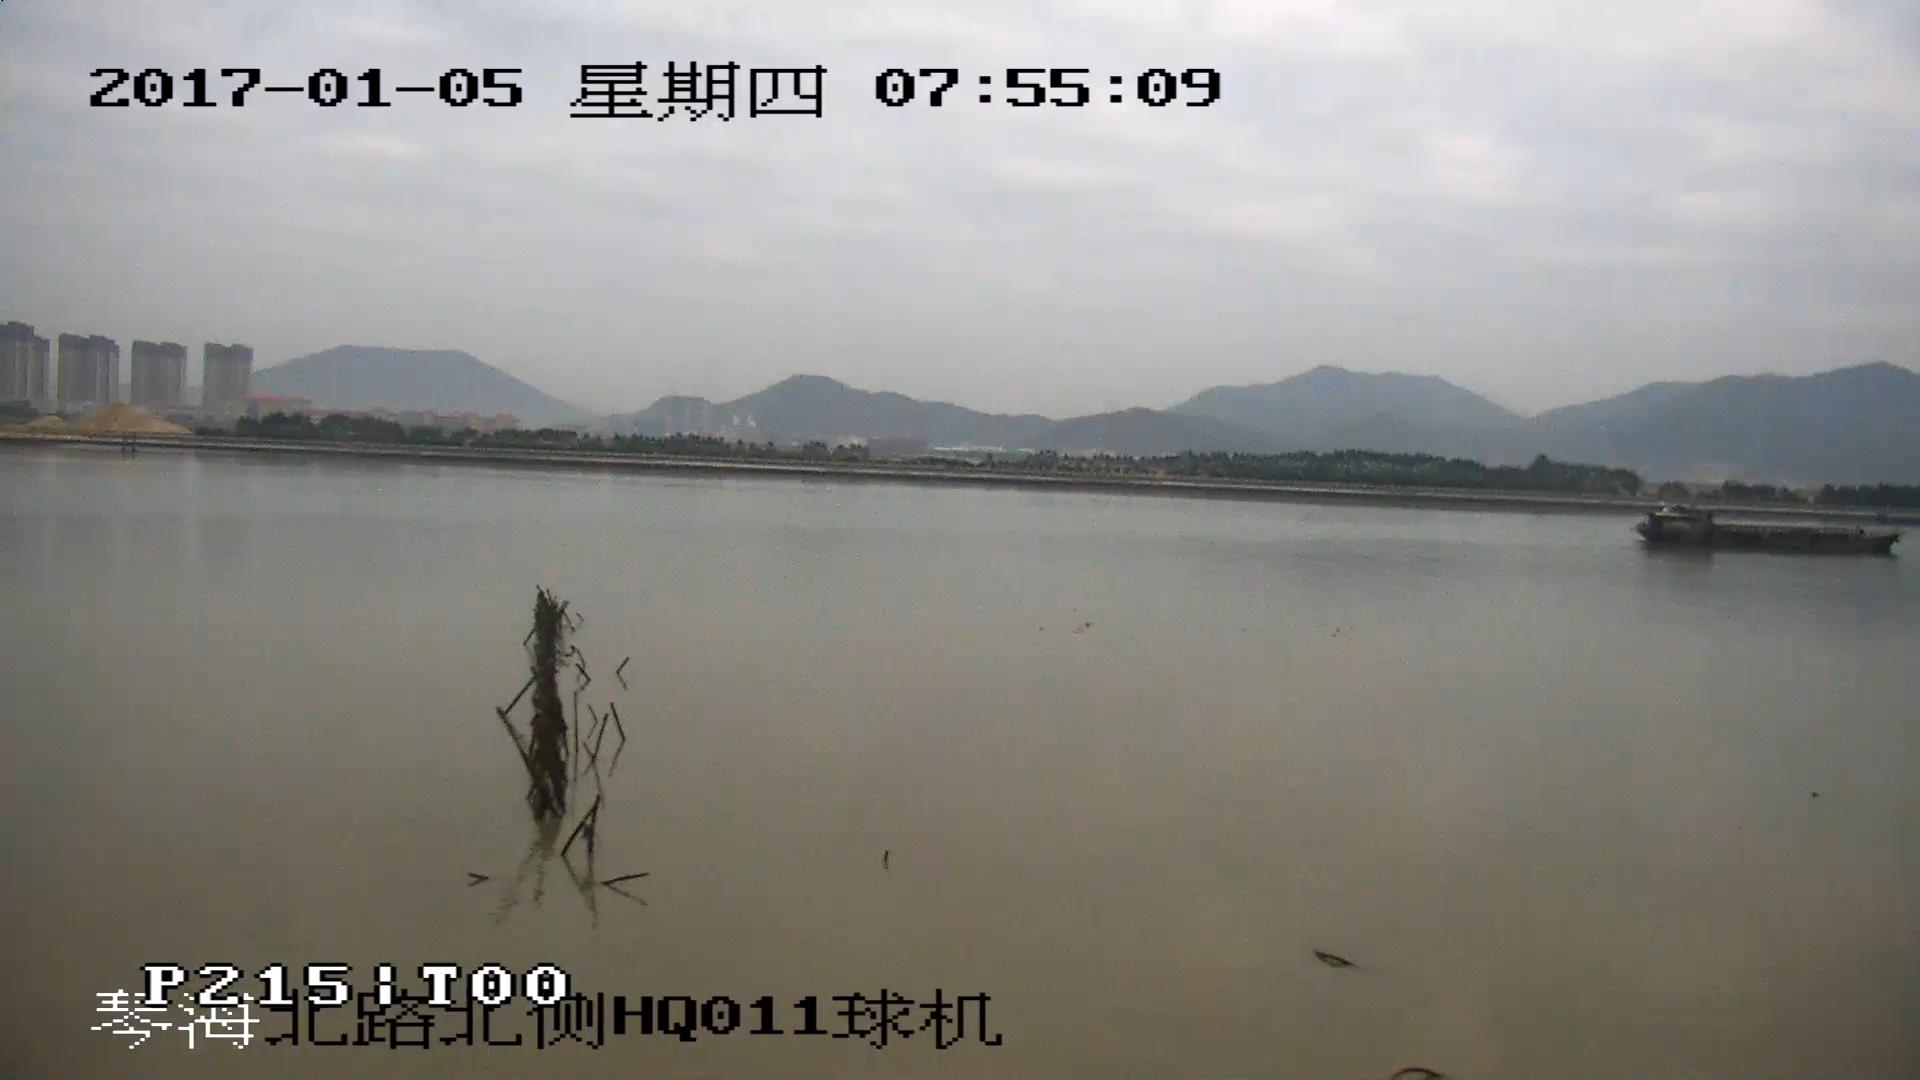bulk cargo carrier: (1632, 505, 1900, 555)
